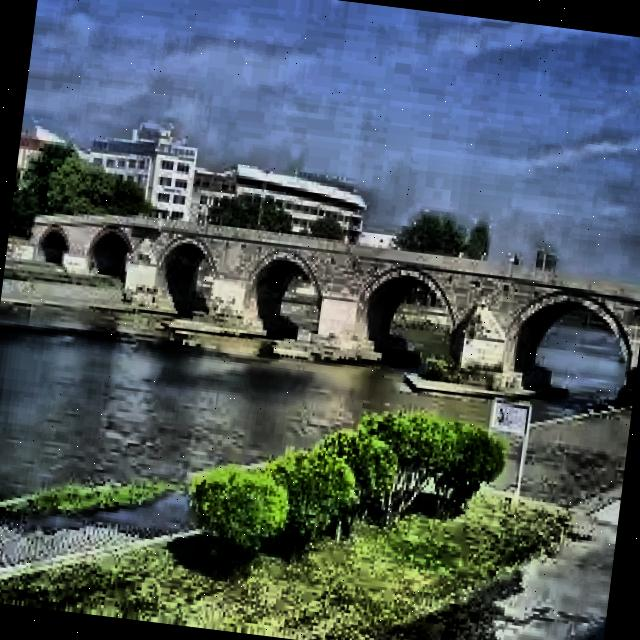stone bridge: (0, 179, 640, 406)
